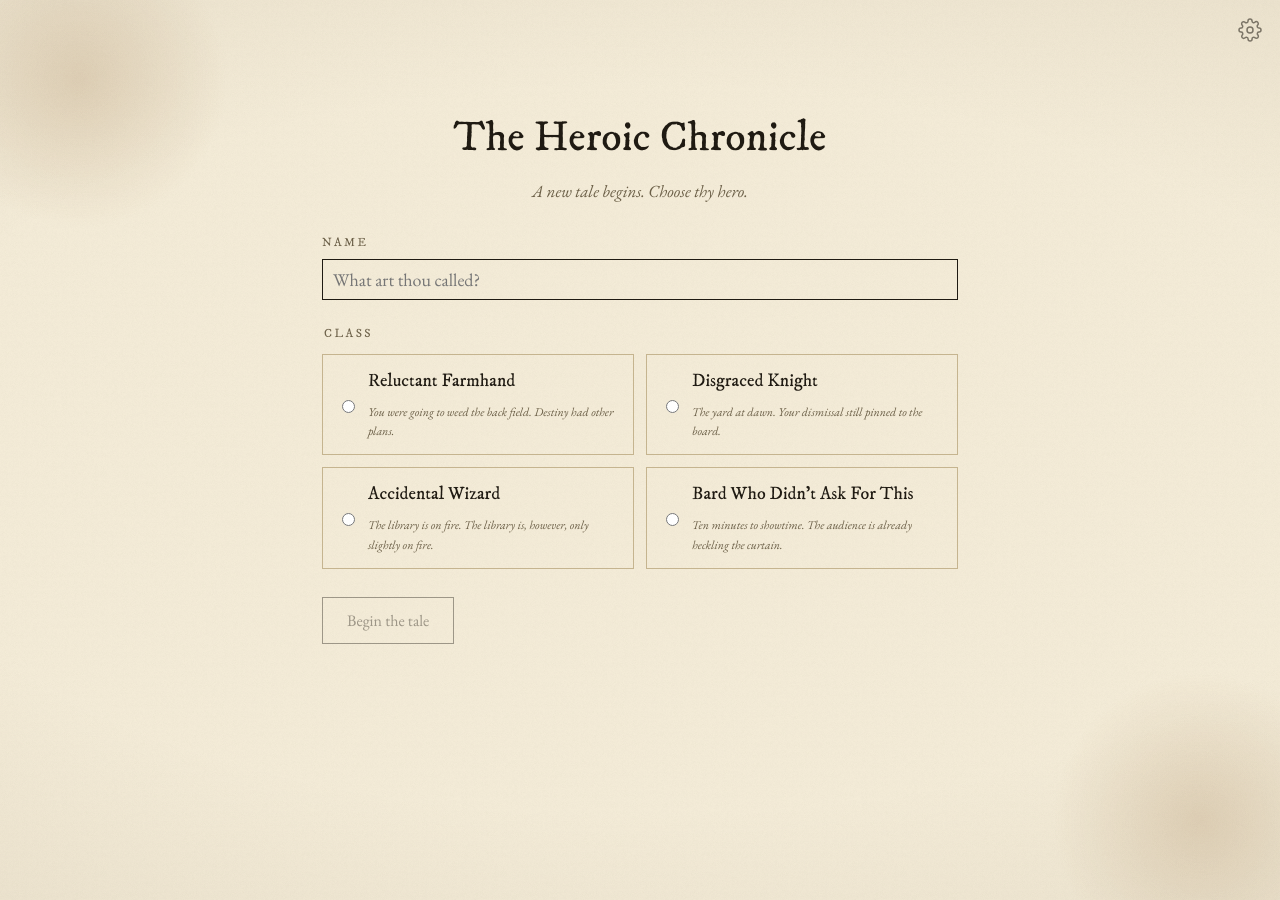
Test: App › renders the game shell after character creation
The width and height of the screenshot is (1280, 900).
In the field labelled "Name": (640, 280) [322,259,958,300], type "Brendan"
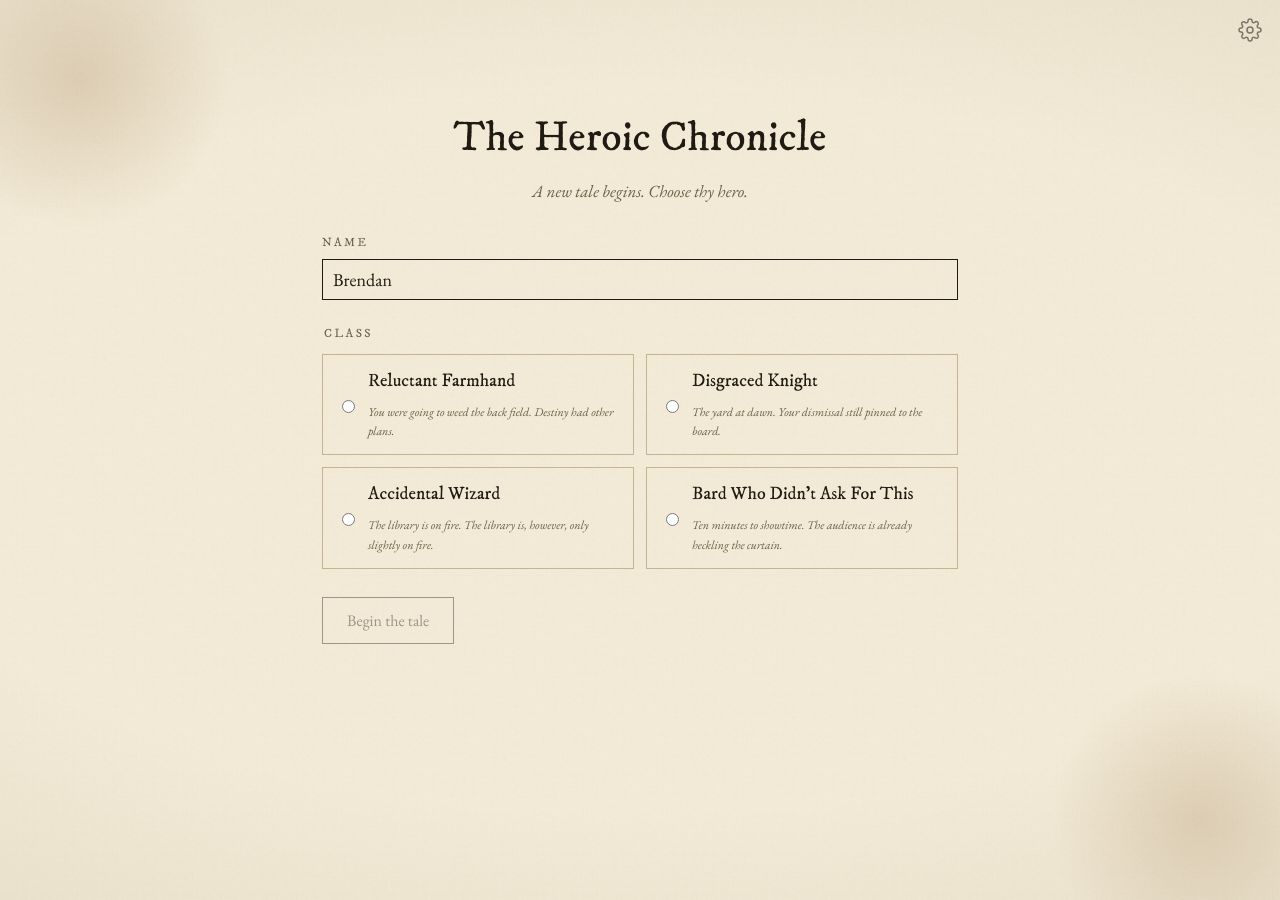
Click the radio button labelled "Reluctant Farmhand": (348, 406) [342,400,355,413]
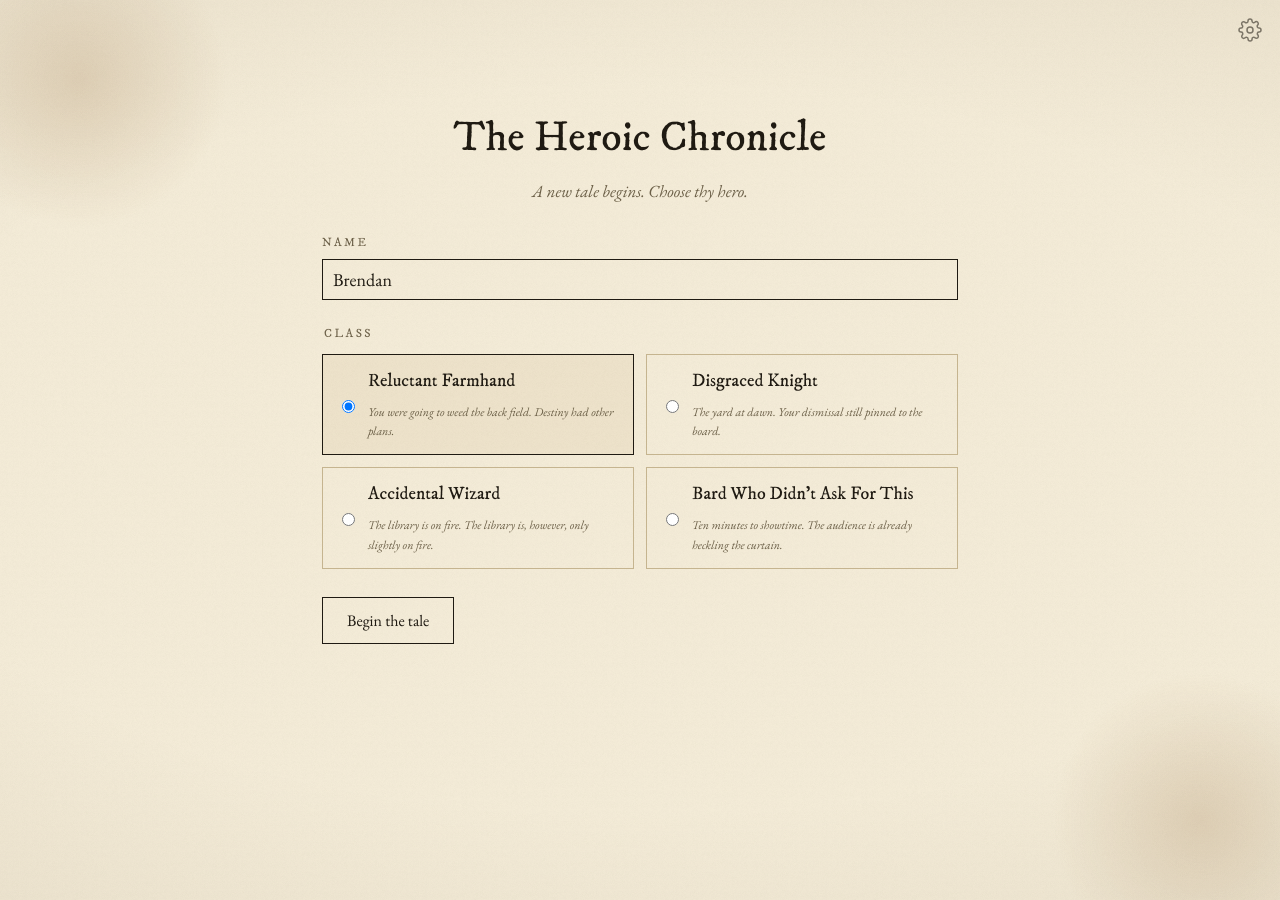
Click the button "Begin the tale": (388, 620) [322,596,454,644]
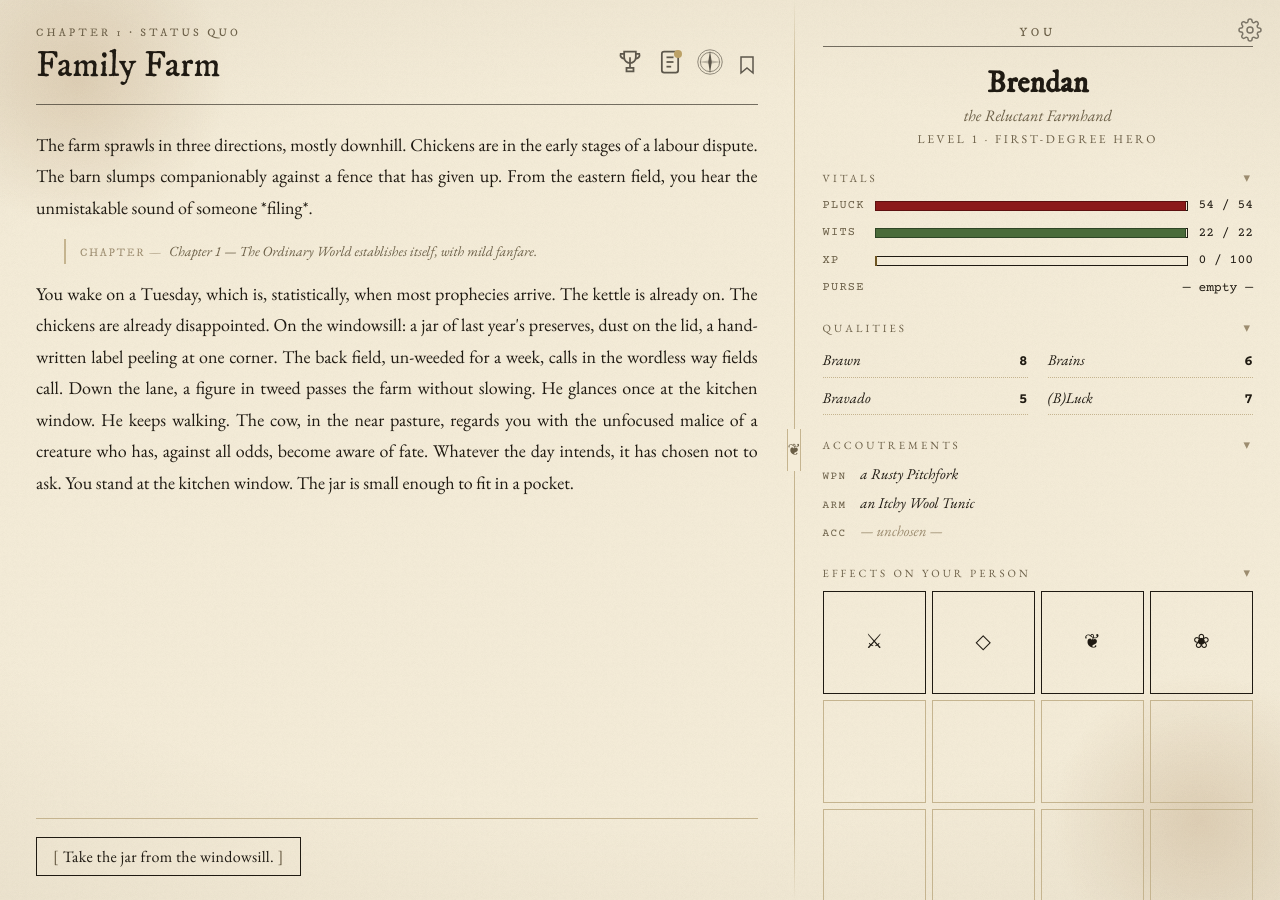
Now the heading "Brendan" is shown, box [987,65,1088,102]
Now the element named "World panel" is shown
Now the element named "Character panel" is shown, box [795,0,1279,899]
